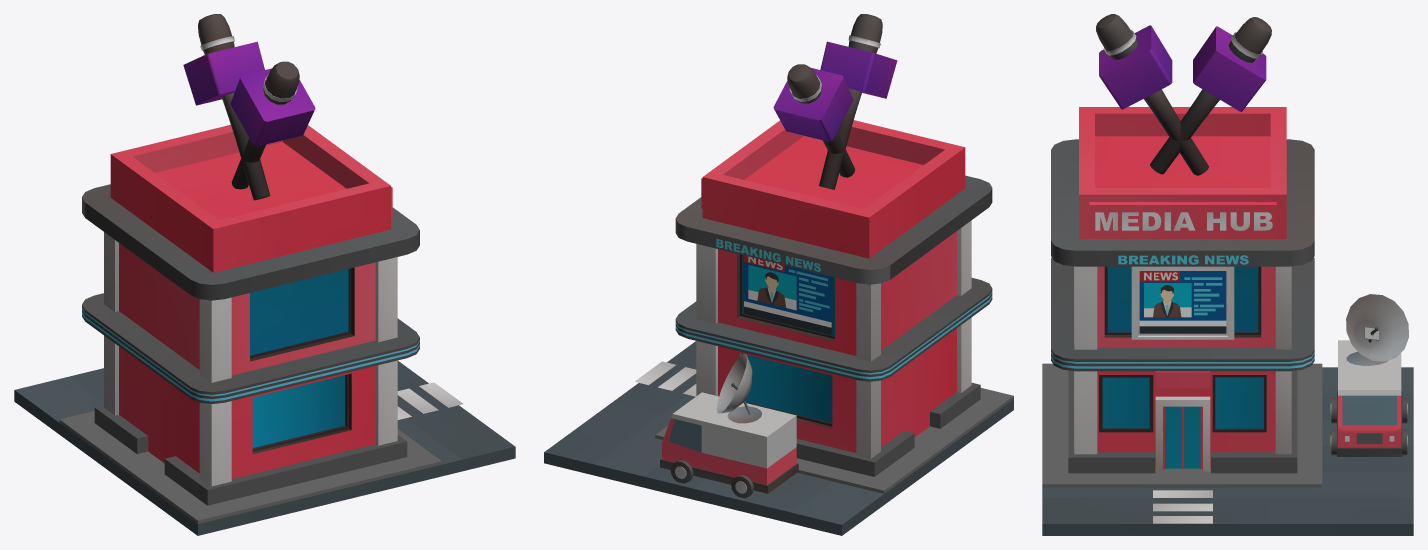
File: Media Hub.fbx
3 renders of one model, left to right at view 1: azimuth 30°, elevation 25°; view 2: azimuth 150°, elevation 25°; view 3: azimuth 270°, elevation 25°, orthographic. The views are drawn at different scales.
Parts seen in each view (by area): view 1: Media_Hub; view 2: Media_Hub; view 3: Media_Hub.
Boxes of the visible parts, box(x1,y1,x2,y2) form: Media_Hub: box(14, 14, 515, 535); Media_Hub: box(544, 14, 1013, 535); Media_Hub: box(1042, 14, 1413, 535).
Bounding box in the file's own units: 4.04 × 5.03 × 4.
